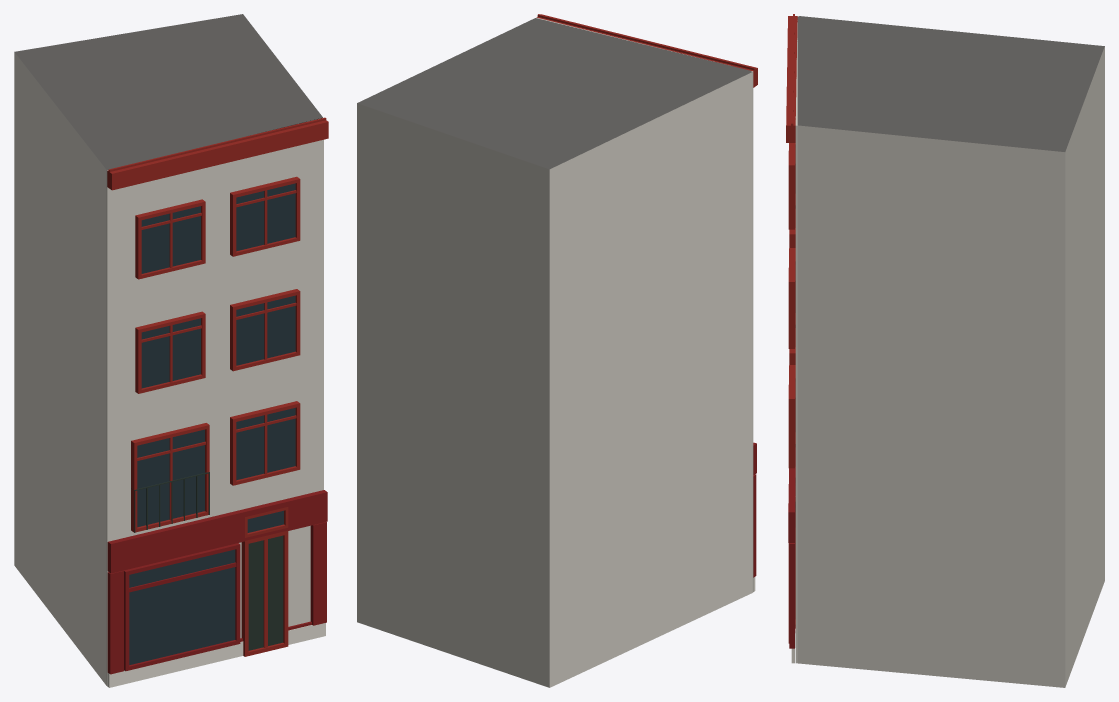
3 views of the same model, side by side, from view 1: azimuth 30°, elevation 25°; view 2: azimuth 150°, elevation 25°; view 3: azimuth 270°, elevation 25° (orthographic). The views are drawn at different scales.
Visible parts, largest first — view 1: spec-0363100012182372; view 2: spec-0363100012182372; view 3: spec-0363100012182372.
Part boxes in pixels (bbox=[...]): spec-0363100012182372: bbox=[14, 14, 328, 687]; spec-0363100012182372: bbox=[357, 14, 757, 687]; spec-0363100012182372: bbox=[786, 14, 1104, 687].
Size of the model in its own units: 5.81 by 10.9 by 5.83.
